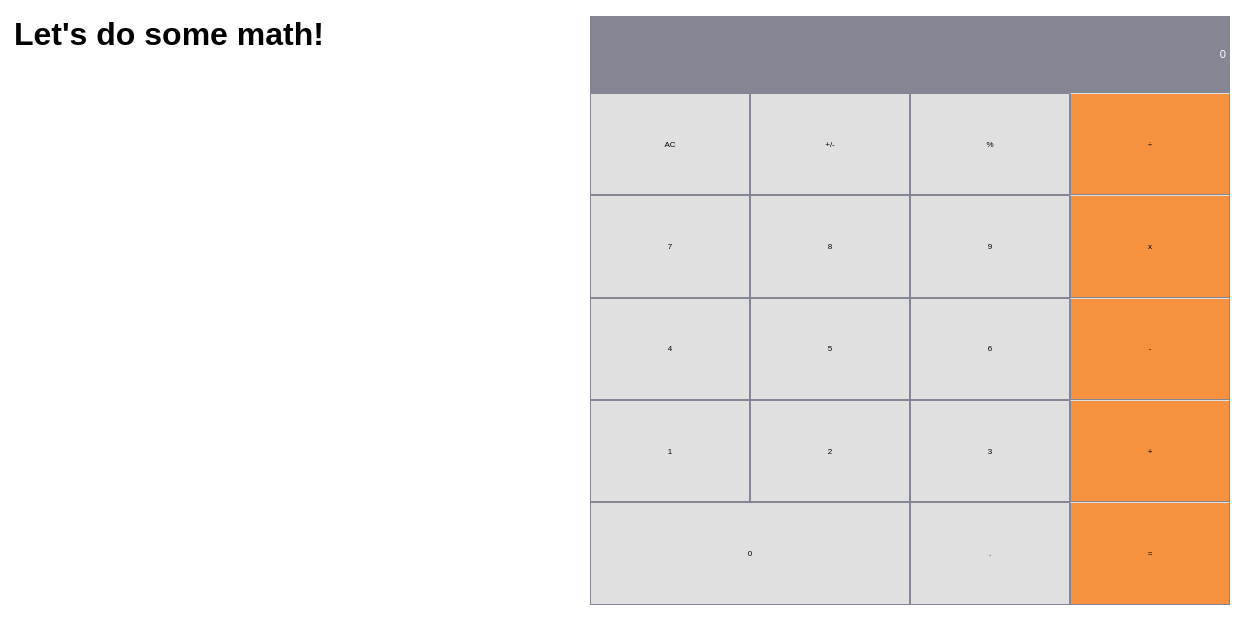
Test case: App interaction › displays 1 on calculator display when key 1 is clicked
The image size is (1247, 622).
Click the button "1". click: [670, 451]
box: [590,400,750,502]
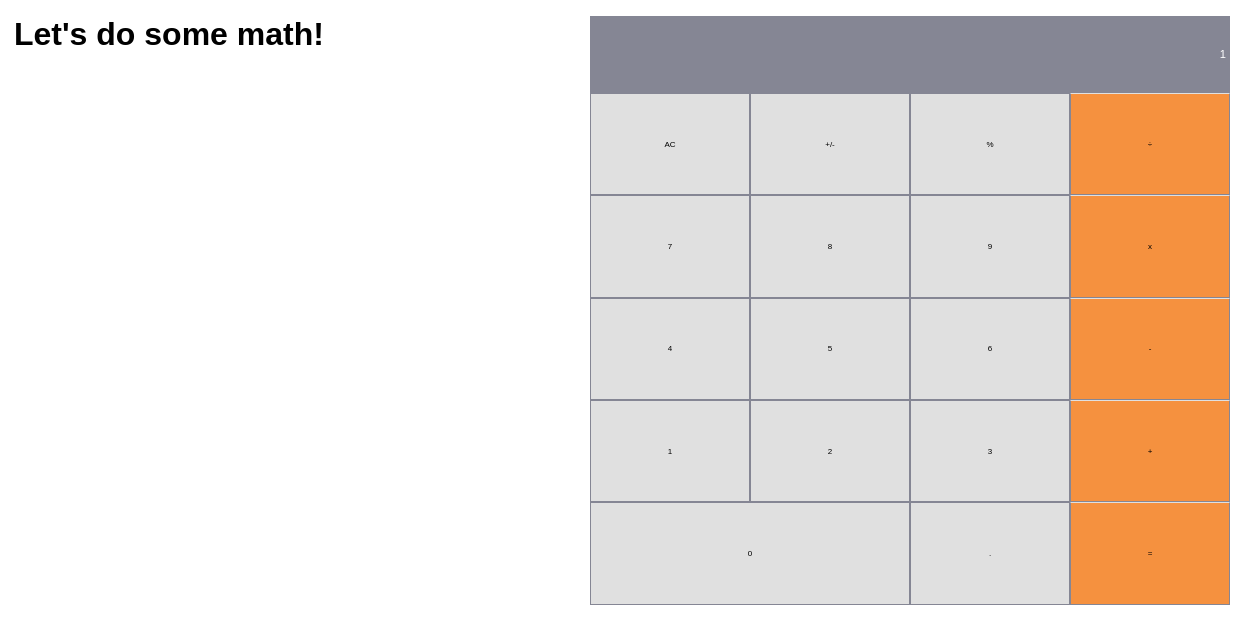
Expected: the text with class "calculator__display" reads "1", [1220,48,1226,60]
